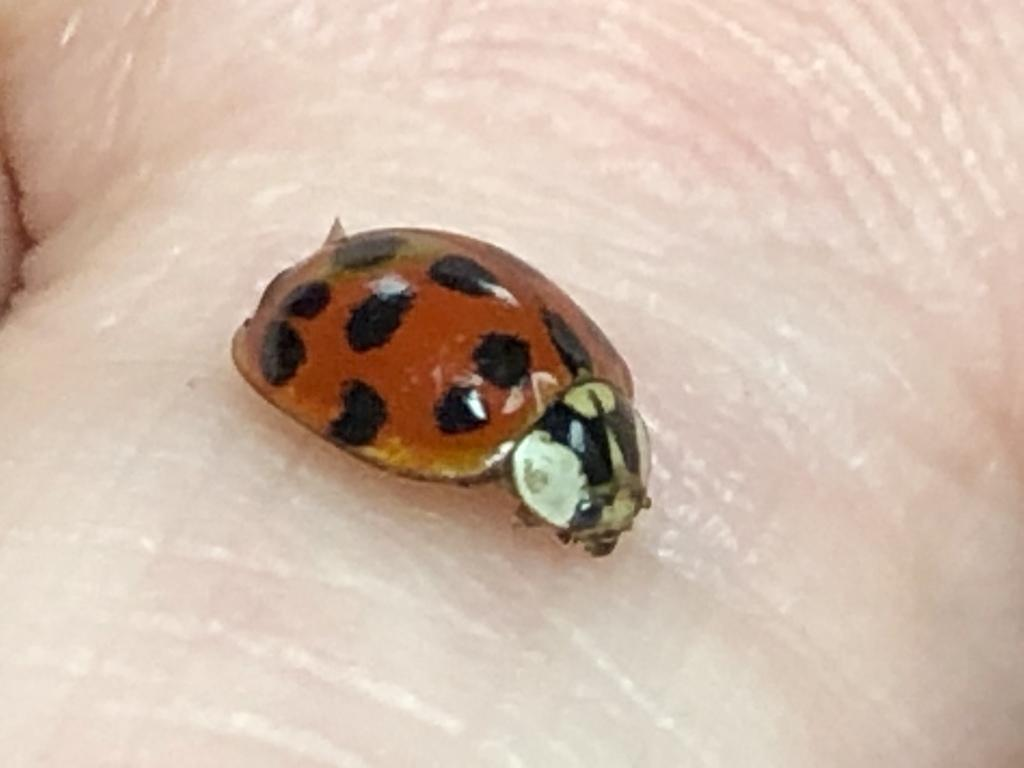ladybug: (231, 213, 659, 561)
